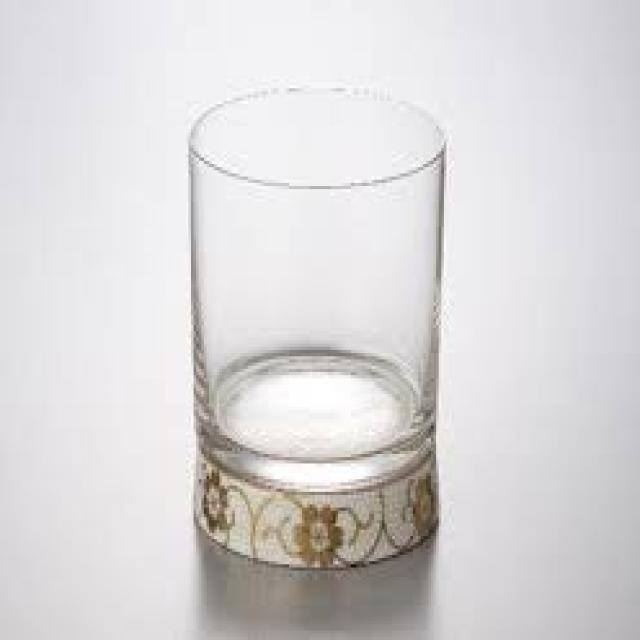glass: (186, 85, 441, 568)
